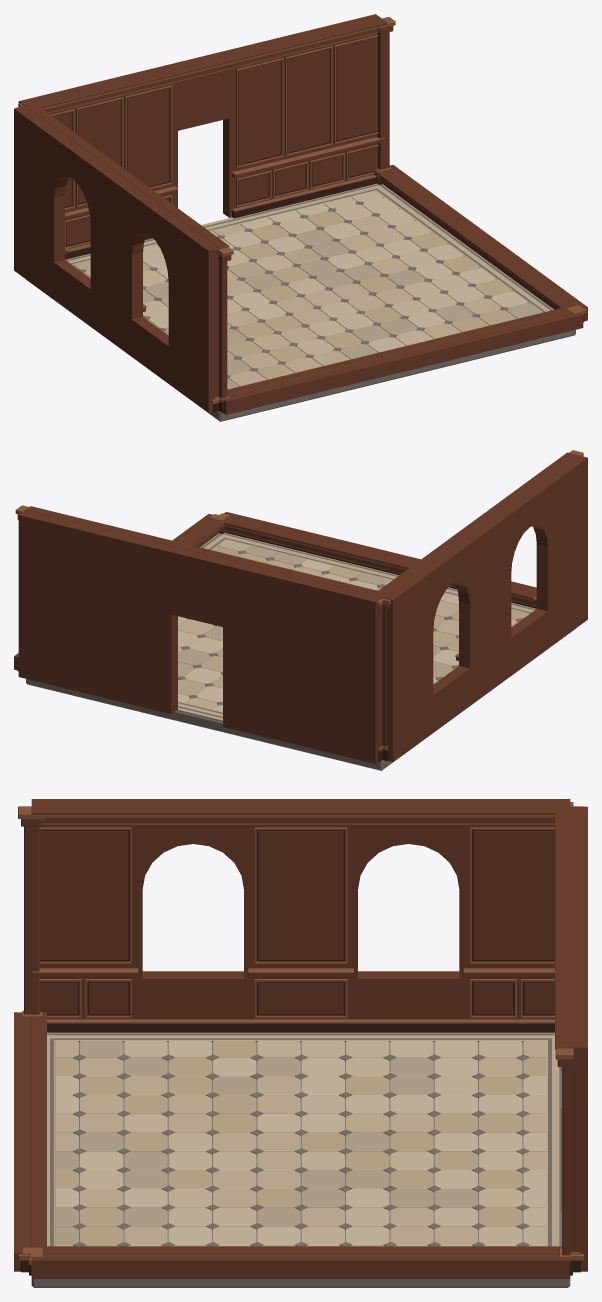
Rendered from clinic_architecture.glb.
The picture shows the model from 3 angles, top to bottom: view 1: azimuth 30°, elevation 25°; view 2: azimuth 150°, elevation 25°; view 3: azimuth 270°, elevation 25°; orthographic projection. The views are drawn at different scales.
Visible parts, largest first — view 1: clinic_Floor, clinic_left_Wall_Solid_00, clinic_rear_Wall_Solid_00, clinic_front_Cutedge_Solid_00, clinic_rear_Wall_UpperPanel_00_1_1_Field, clinic_rear_Wall_UpperPanel_00_1_0_Field, clinic_rear_Wall_UpperPanel_00_1_2_Field, clinic_rear_Wall_UpperPanel_00_0_2_Field, clinic_rear_Wall_Cornice_00_3_0, clinic_Floor_Foundation, clinic_Floor_Diamond_inlays, clinic_right_Cutedge_Solid_00 (+21 smaller); view 2: clinic_rear_Wall_Solid_00, clinic_left_Wall_Solid_00, clinic_Floor, clinic_Floor_Foundation, clinic_rear_Wall_Cornice_00_3_0, clinic_left_Wall_Cornice_00_3_0, clinic_front_Cutedge_Cornice_00_3_0, clinic_front_Cutedge_Solid_00, clinic_front_Cutedge_Cornice_00_1_0, Pilaster_Shaft, clinic_front_Cutedge_Cornice_00_2_0, Pilaster_Shaft_003 (+4 smaller); view 3: clinic_Floor, clinic_left_Wall_Solid_00, clinic_right_Cutedge_Solid_00, clinic_left_Wall_UpperPanel_00_0_0_Field, clinic_left_Wall_UpperPanel_00_1_0_Field, clinic_left_Wall_UpperPanel_00_2_0_Field, clinic_rear_Wall_Solid_00, clinic_Floor_Diamond_inlays, clinic_left_Wall_Skirting_00_0, clinic_Floor_Foundation, clinic_left_Wall_Cornice_00_3_0, clinic_front_Cutedge_Solid_00 (+19 smaller).
Part boxes in pixels (x1=…): clinic_Floor: x1=65, y1=183, x2=553, y2=389; clinic_left_Wall_Solid_00: x1=14, y1=106, x2=219, y2=412; clinic_rear_Wall_Solid_00: x1=18, y1=14, x2=381, y2=248; clinic_front_Cutedge_Solid_00: x1=223, y1=311, x2=583, y2=414; clinic_rear_Wall_UpperPanel_00_1_1_Field: x1=288, y1=49, x2=329, y2=152; clinic_rear_Wall_UpperPanel_00_1_0_Field: x1=239, y1=61, x2=280, y2=164; clinic_rear_Wall_UpperPanel_00_1_2_Field: x1=336, y1=37, x2=377, y2=140; clinic_rear_Wall_UpperPanel_00_0_2_Field: x1=127, y1=88, x2=169, y2=186; clinic_rear_Wall_Cornice_00_3_0: x1=30, y1=18, x2=387, y2=108; clinic_Floor_Foundation: x1=26, y1=279, x2=575, y2=421; clinic_Floor_Diamond_inlays: x1=79, y1=197, x2=528, y2=378; clinic_right_Cutedge_Solid_00: x1=386, y1=165, x2=587, y2=321; clinic_rear_Wall_Solid_00: x1=18, y1=510, x2=382, y2=763; clinic_left_Wall_Solid_00: x1=382, y1=455, x2=587, y2=761; clinic_Floor: x1=177, y1=532, x2=536, y2=721; clinic_Floor_Foundation: x1=26, y1=629, x2=574, y2=770; clinic_rear_Wall_Cornice_00_3_0: x1=25, y1=506, x2=386, y2=597; clinic_left_Wall_Cornice_00_3_0: x1=376, y1=452, x2=576, y2=597; clinic_front_Cutedge_Cornice_00_3_0: x1=215, y1=518, x2=536, y2=599; clinic_front_Cutedge_Solid_00: x1=224, y1=512, x2=536, y2=593; clinic_front_Cutedge_Cornice_00_1_0: x1=224, y1=526, x2=536, y2=605; Pilaster_Shaft: x1=382, y1=609, x2=386, y2=746; clinic_front_Cutedge_Cornice_00_2_0: x1=224, y1=524, x2=533, y2=601; Pilaster_Shaft_003: x1=379, y1=609, x2=382, y2=747; clinic_Floor: x1=47, y1=1032, x2=562, y2=1246; clinic_left_Wall_Solid_00: x1=31, y1=799, x2=570, y2=1019; clinic_right_Cutedge_Solid_00: x1=31, y1=1253, x2=570, y2=1278; clinic_left_Wall_UpperPanel_00_0_0_Field: x1=39, y1=831, x2=128, y2=959; clinic_left_Wall_UpperPanel_00_1_0_Field: x1=258, y1=831, x2=343, y2=959; clinic_left_Wall_UpperPanel_00_2_0_Field: x1=473, y1=831, x2=554, y2=959; clinic_rear_Wall_Solid_00: x1=570, y1=806, x2=587, y2=1271; clinic_Floor_Diamond_inlays: x1=73, y1=1041, x2=528, y2=1246; clinic_left_Wall_Skirting_00_0: x1=47, y1=1023, x2=554, y2=1032; clinic_Floor_Foundation: x1=31, y1=1279, x2=570, y2=1287; clinic_left_Wall_Cornice_00_3_0: x1=31, y1=806, x2=569, y2=814; clinic_front_Cutedge_Solid_00: x1=14, y1=1012, x2=31, y2=1271.
Size of the model in its own units: 9.56 by 4.21 by 9.06.
